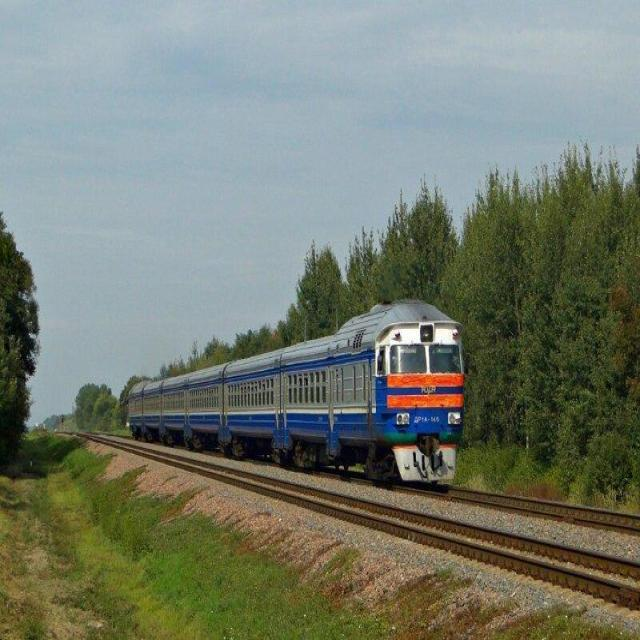trains: (124, 299, 466, 490)
